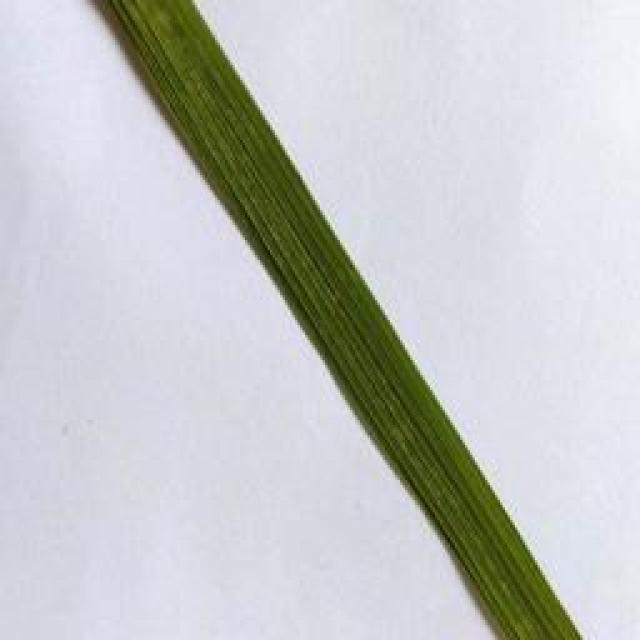Healthy-Plant: (102, 0, 590, 640)
